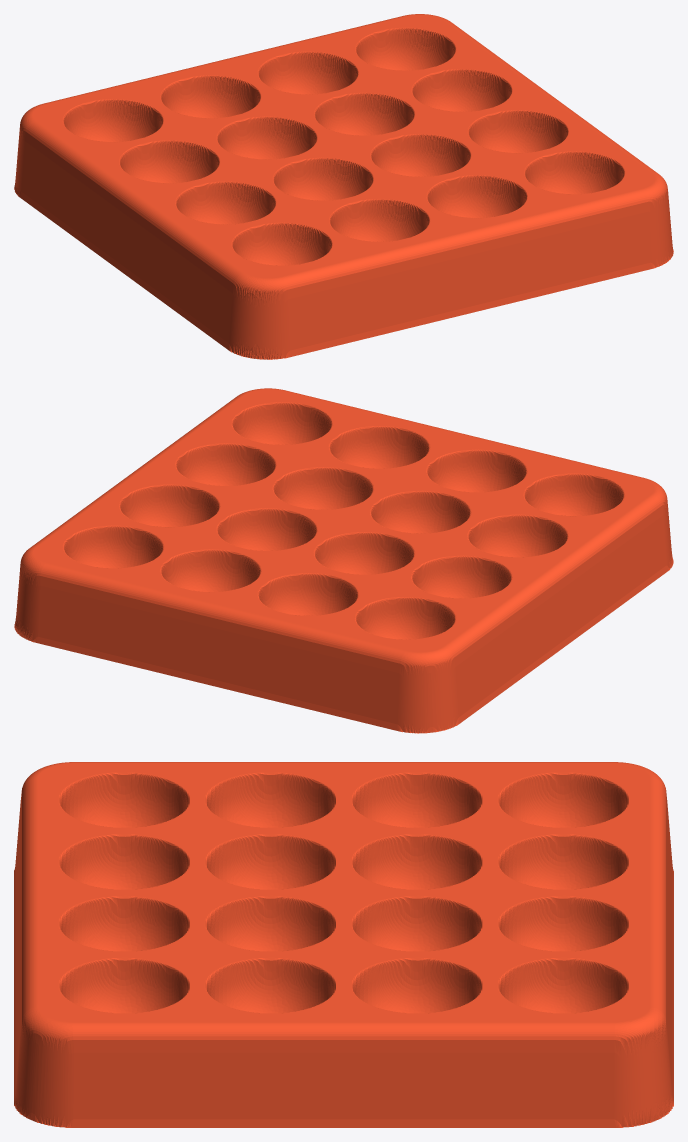
Rendered from mold.glb.
3 renders of one model, top to bottom at view 1: azimuth 30°, elevation 25°; view 2: azimuth 150°, elevation 25°; view 3: azimuth 270°, elevation 25°, orthographic. The views are drawn at different scales.
Visible parts, largest first — view 1: geometry_0; view 2: geometry_0; view 3: geometry_0.
Boxes of the visible parts, <box> form: geometry_0: <box>14,14,673,359</box>; geometry_0: <box>14,388,673,733</box>; geometry_0: <box>14,762,673,1127</box>.
Bounding box in the file's own units: 0.0992 × 0.0159 × 0.0992.
